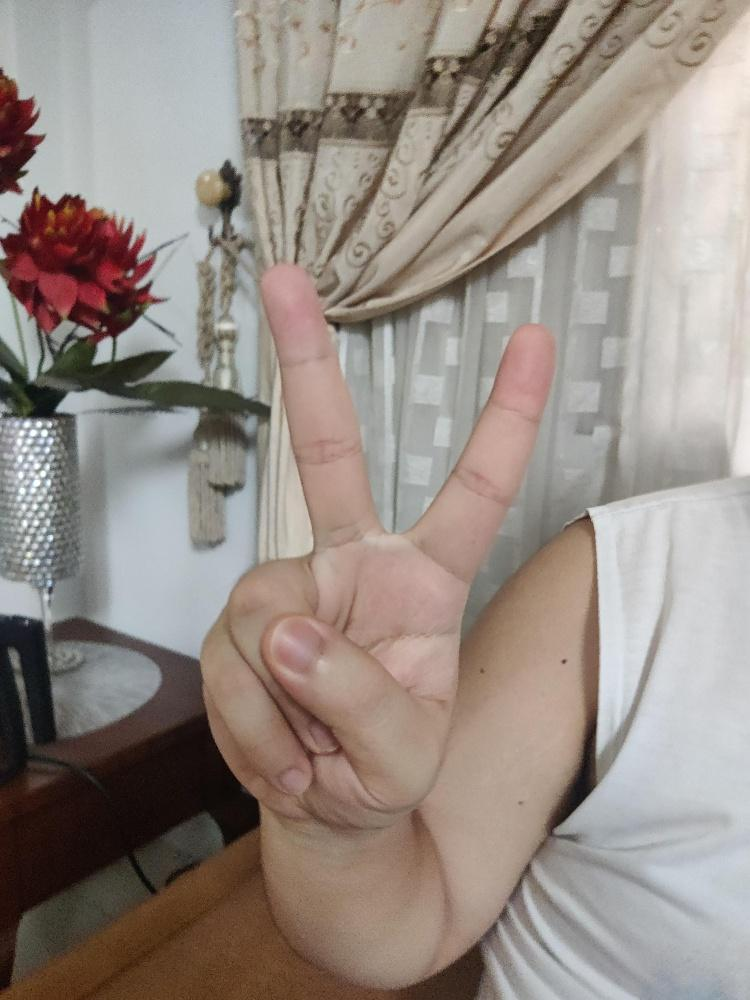v: (199, 260, 555, 825)
